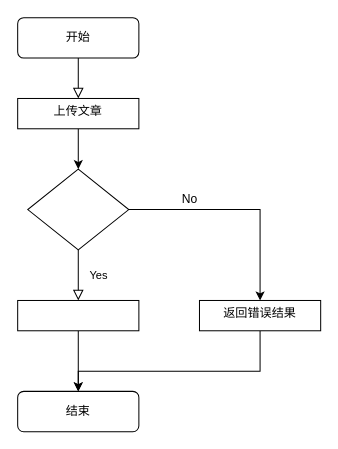
Image size: 338x449. Some labels were removed from this diagram. The centre of each missing label's shape, as x and y in pixels:
存入数据库: the point at 78,315
用户id是否查到: the point at 78,209
